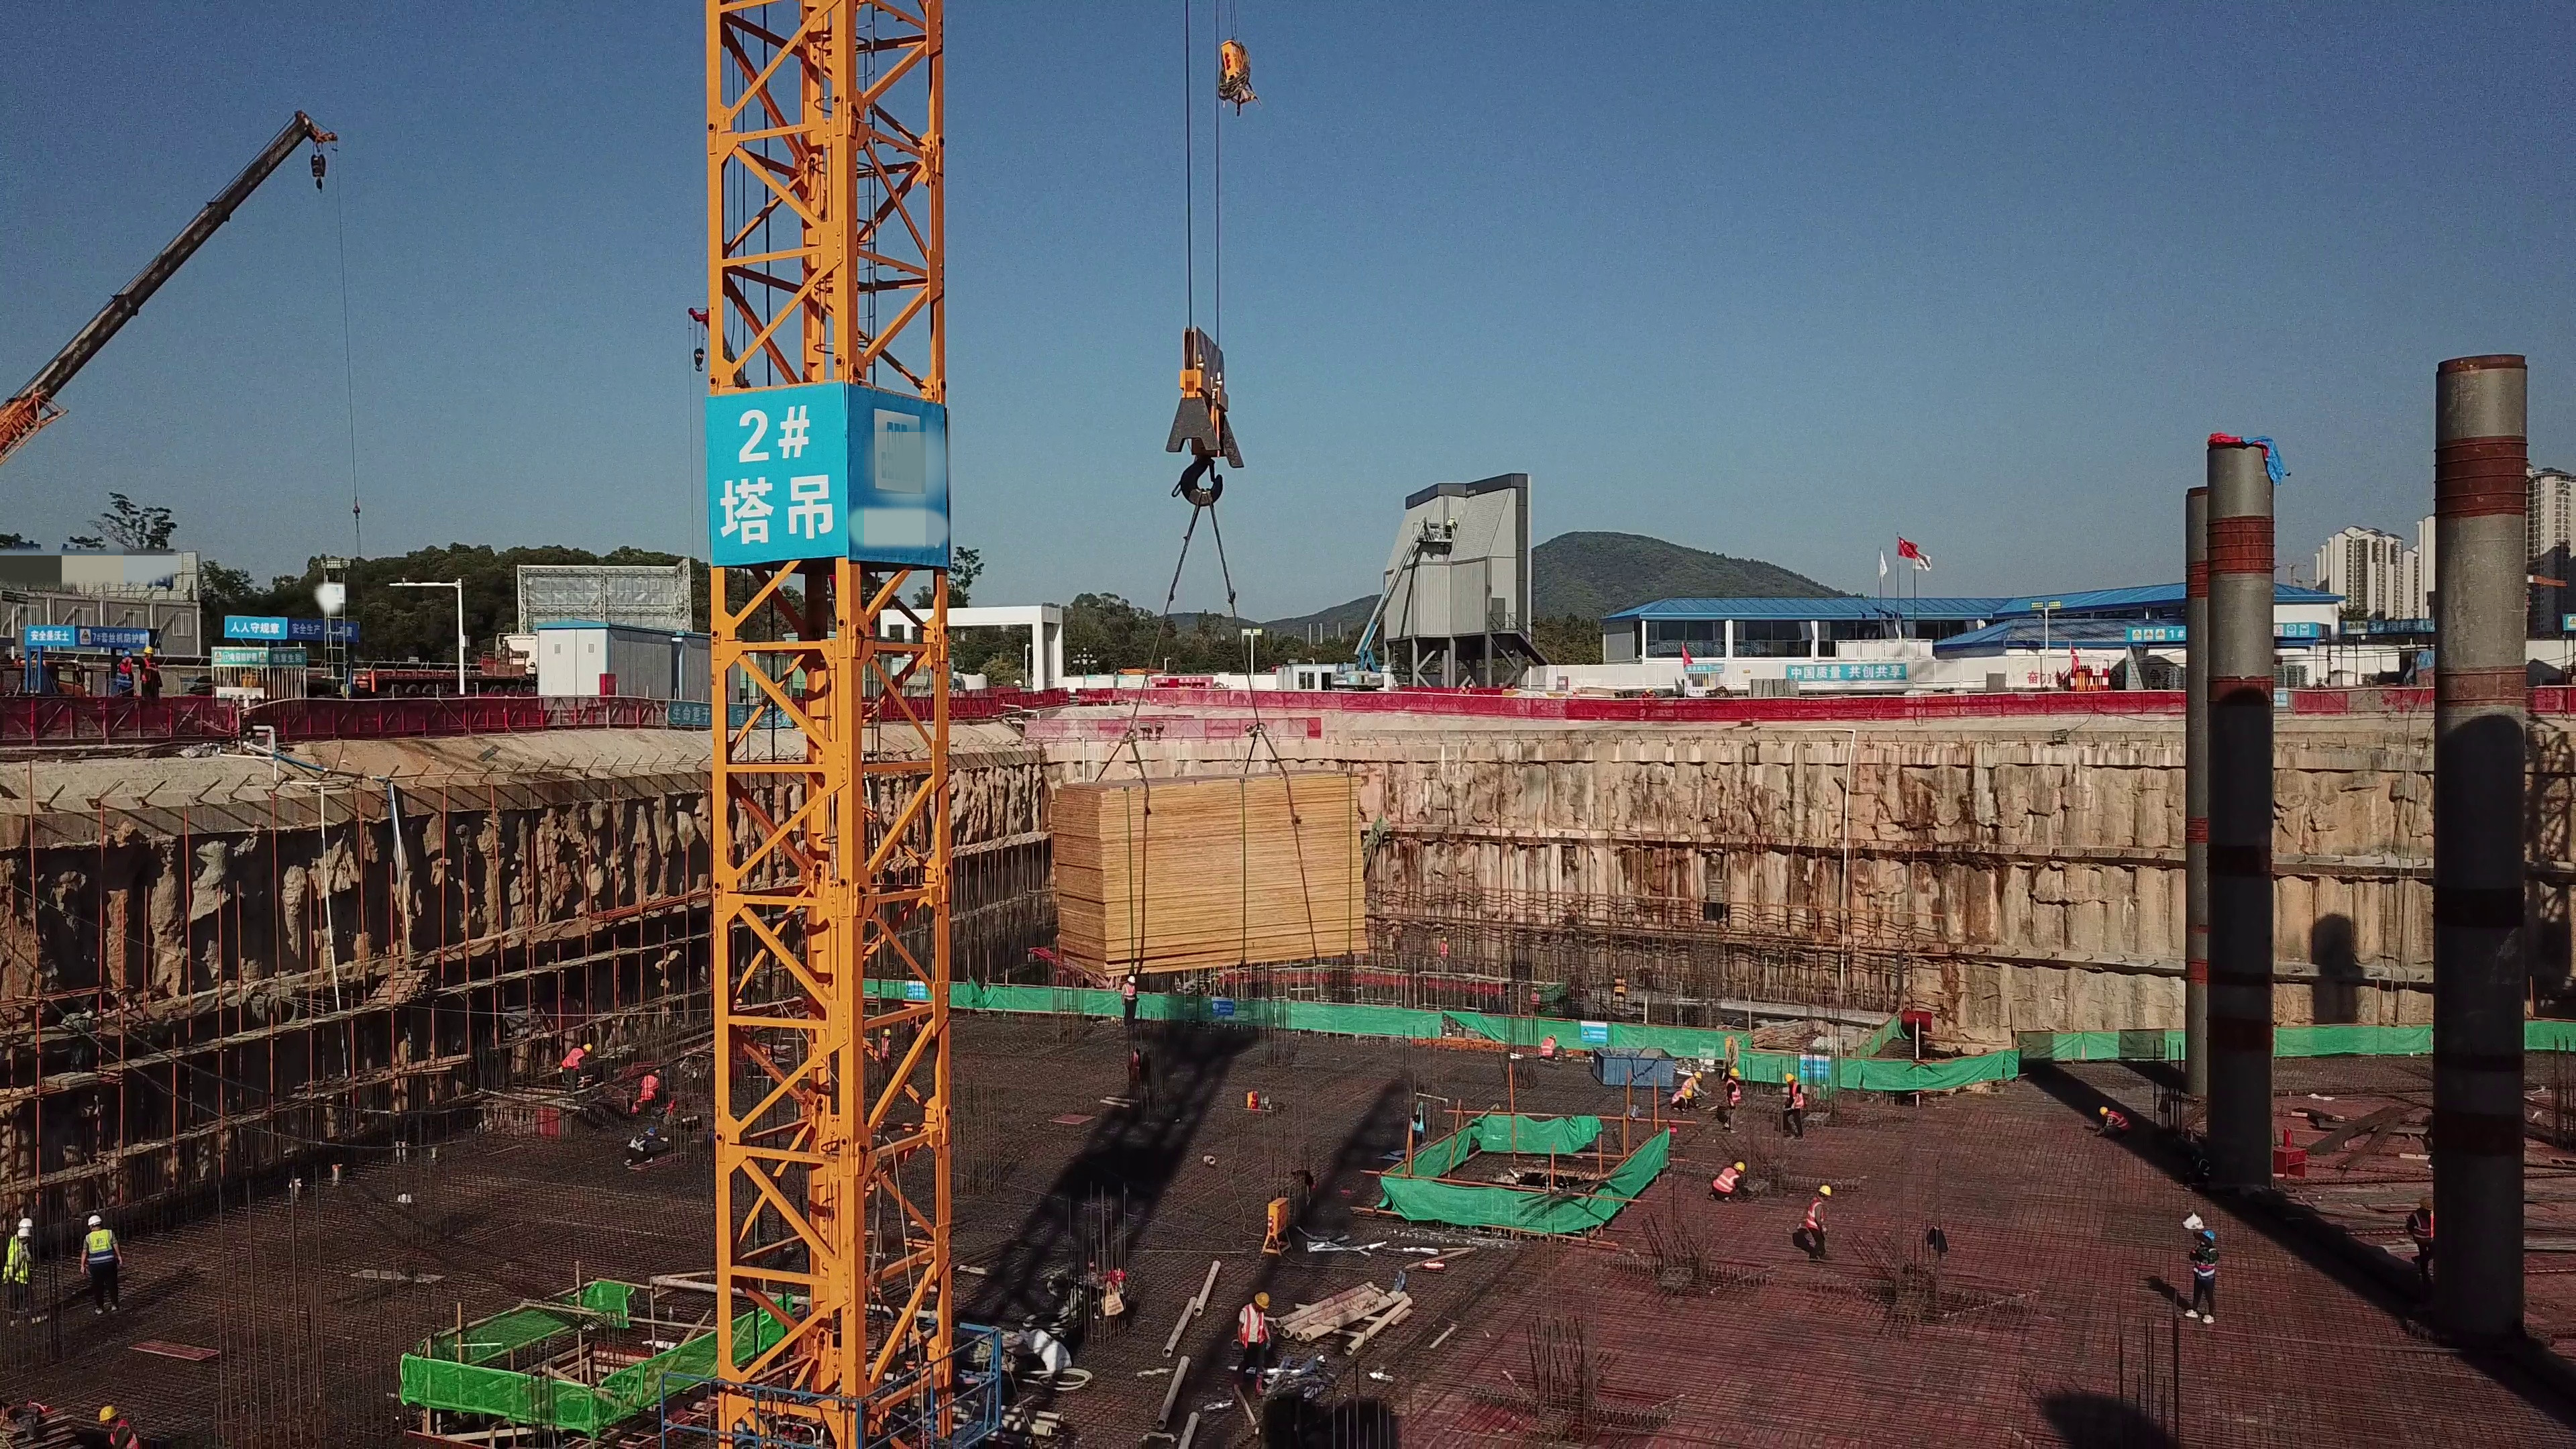board: (1058, 762, 1369, 981)
brick: (1748, 674, 1797, 697)
ebox: (1258, 1193, 1298, 1258)
fence: (307, 695, 588, 742), (1741, 695, 2095, 724)
helmet: (18, 1220, 33, 1243), (1733, 1159, 1748, 1176), (1254, 1292, 1271, 1307), (1726, 1066, 1742, 1077), (143, 644, 156, 656), (88, 1215, 102, 1226), (1818, 1185, 1833, 1195), (584, 1042, 594, 1052), (881, 1026, 891, 1036), (655, 1066, 663, 1077), (1785, 1073, 1794, 1082), (121, 649, 131, 657), (1682, 1089, 1693, 1097), (1693, 1070, 1705, 1077), (1126, 974, 1135, 982), (1440, 936, 1449, 943), (645, 1125, 653, 1132)
hook: (1166, 327, 1248, 504), (298, 156, 338, 191), (694, 344, 705, 374)
person: (64, 1210, 134, 1320), (2180, 1232, 2235, 1334), (1, 1212, 38, 1326), (1233, 1289, 1273, 1383), (2402, 1194, 2444, 1277), (1799, 1177, 1837, 1264), (555, 1037, 589, 1110), (89, 1402, 137, 1449), (1708, 1158, 1753, 1207), (1113, 974, 1151, 1032), (1780, 1069, 1808, 1142), (2093, 1101, 2134, 1146), (137, 641, 167, 702), (626, 1124, 661, 1173), (629, 1065, 661, 1117), (873, 1026, 898, 1085), (1724, 1066, 1743, 1134), (112, 649, 137, 697), (1536, 1029, 1560, 1070), (1637, 685, 1662, 724), (1387, 914, 1406, 953), (1670, 1087, 1695, 1111), (1435, 936, 1450, 977), (1682, 1067, 1709, 1087), (1456, 682, 1467, 698), (1465, 682, 1475, 698)
scaffold: (1808, 1034, 1854, 1059)
slogan: (704, 390, 849, 552), (2129, 625, 2320, 642), (661, 704, 799, 724), (2338, 613, 2442, 637), (1788, 666, 1925, 683), (81, 627, 158, 650), (223, 613, 288, 638), (295, 616, 356, 637), (207, 647, 270, 666), (30, 628, 74, 649), (272, 648, 310, 665), (1686, 665, 1713, 674)
vest: (1238, 1307, 1269, 1347), (1803, 1199, 1827, 1232), (8, 1243, 28, 1282), (87, 1233, 110, 1266), (1714, 1167, 1740, 1194), (559, 1046, 584, 1072), (140, 657, 162, 683), (1788, 1083, 1803, 1110), (641, 1075, 657, 1097), (116, 662, 131, 686), (630, 1134, 647, 1154), (1542, 1038, 1555, 1059), (881, 1036, 890, 1061), (1124, 985, 1138, 1000), (1440, 943, 1449, 963)
wood: (1760, 1020, 1812, 1053)
